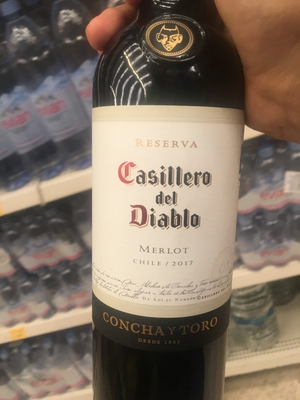casillero del diablo merlot: (82, 12, 242, 400)
